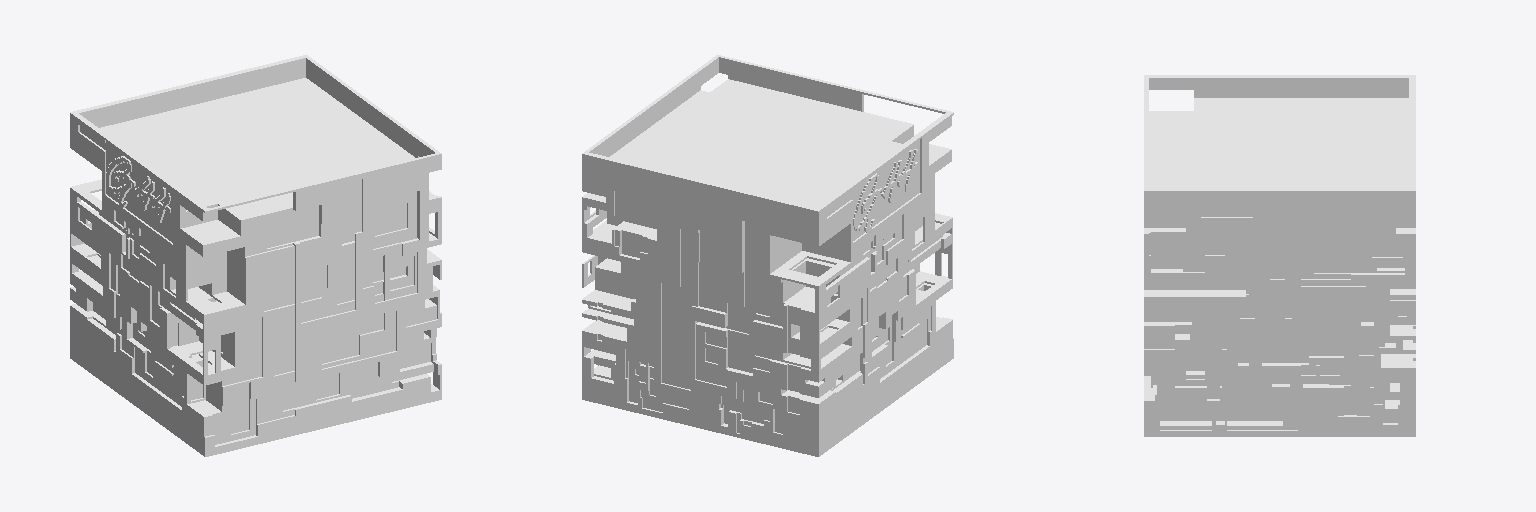
Rendered from Contemp.obj.
3 renders of one model, left to right at view 1: azimuth 30°, elevation 25°; view 2: azimuth 150°, elevation 25°; view 3: azimuth 270°, elevation 25°, orthographic.
Size of the model in its own units: 126 by 125 by 125.